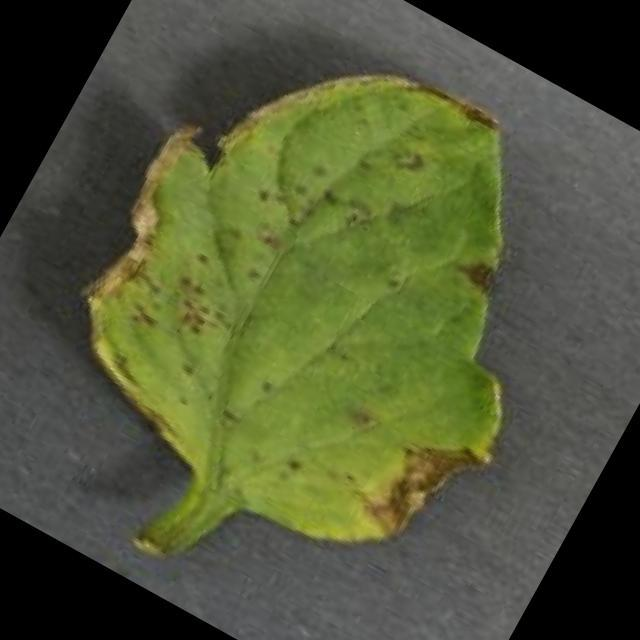Tomato bacterial spot leaf: (2, 0, 640, 626)
